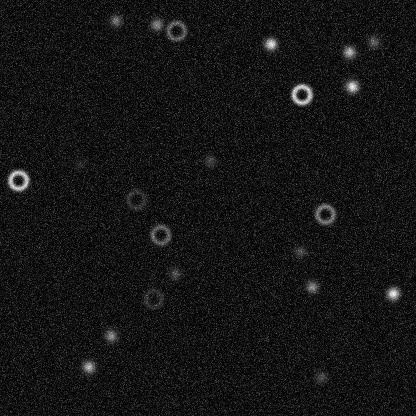Ring: (141, 286, 165, 310), (289, 82, 313, 106), (6, 168, 30, 192), (313, 201, 337, 225), (148, 222, 172, 246), (124, 187, 148, 211), (164, 18, 188, 42)
Spot: (341, 43, 357, 59), (313, 369, 329, 385), (107, 12, 123, 28), (148, 16, 164, 32), (166, 265, 182, 281), (291, 243, 307, 259), (71, 155, 87, 171), (262, 35, 278, 51), (202, 153, 218, 169), (343, 78, 359, 94), (102, 327, 118, 343), (303, 278, 319, 294), (365, 33, 381, 49), (384, 285, 400, 301), (80, 358, 96, 374)
